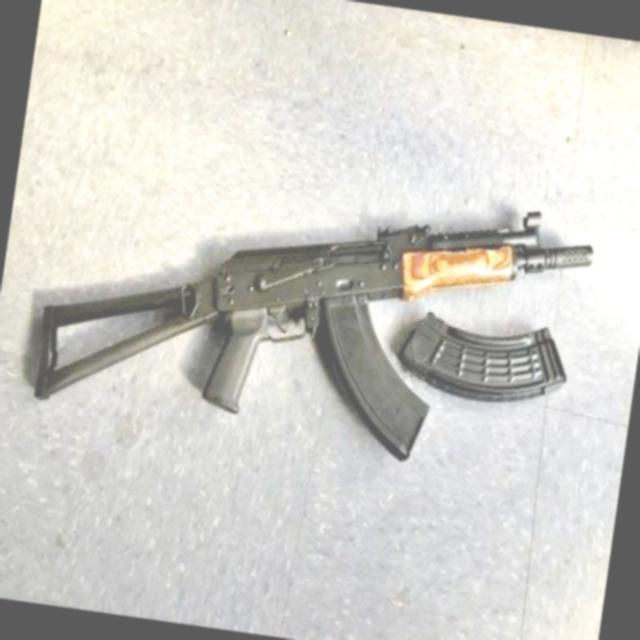ak: (21, 134, 612, 492)
